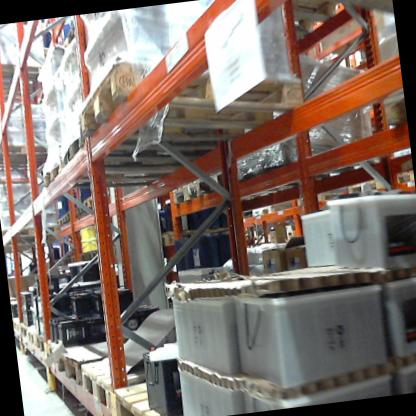pallet: (69, 33, 322, 176), (53, 118, 193, 197), (35, 145, 173, 209), (79, 348, 172, 411), (46, 339, 126, 391), (112, 373, 199, 416), (0, 134, 59, 173), (0, 50, 58, 84), (167, 175, 219, 209), (0, 77, 48, 111), (81, 187, 115, 214), (36, 329, 56, 356), (26, 323, 43, 346), (18, 317, 31, 341), (72, 198, 84, 217), (65, 204, 78, 221), (12, 316, 23, 334), (55, 213, 63, 228), (61, 212, 68, 227)
